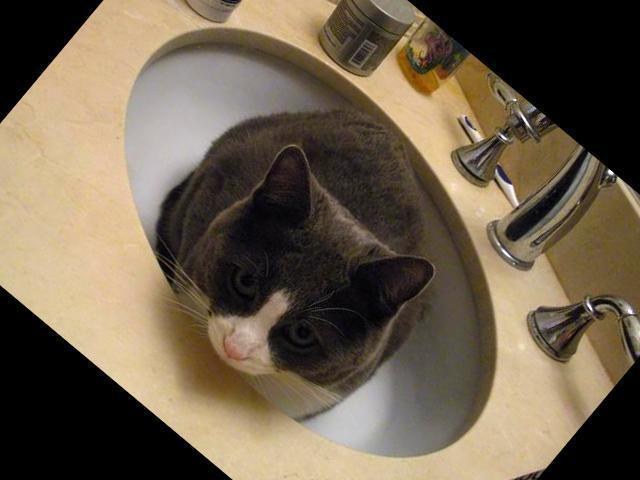Lavamanos: (0, 0, 640, 480)
Otro Obstaculo: (62, 9, 557, 480)
